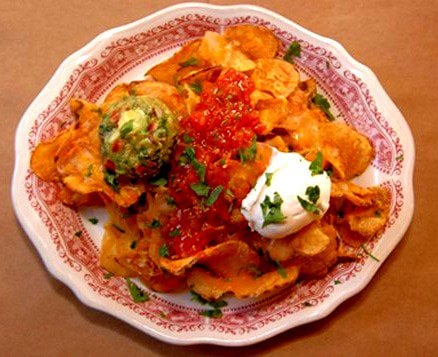curry: (4, 2, 436, 352)
sandwich: (15, 10, 407, 329)
